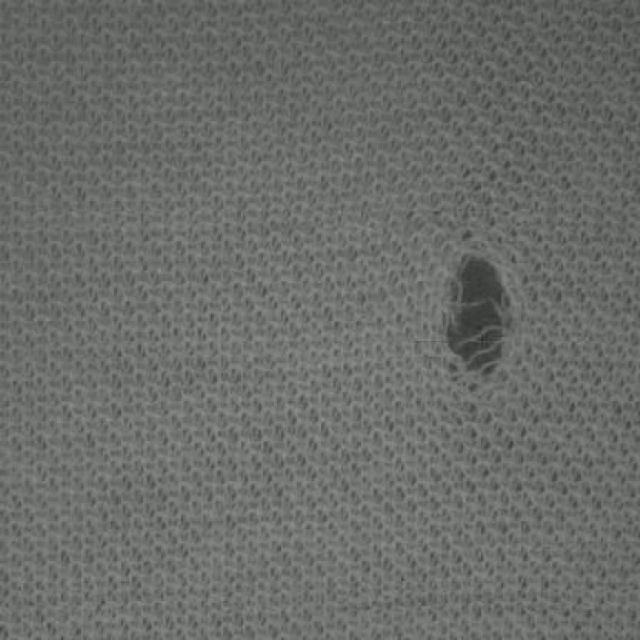Hole: (448, 254, 512, 373)
